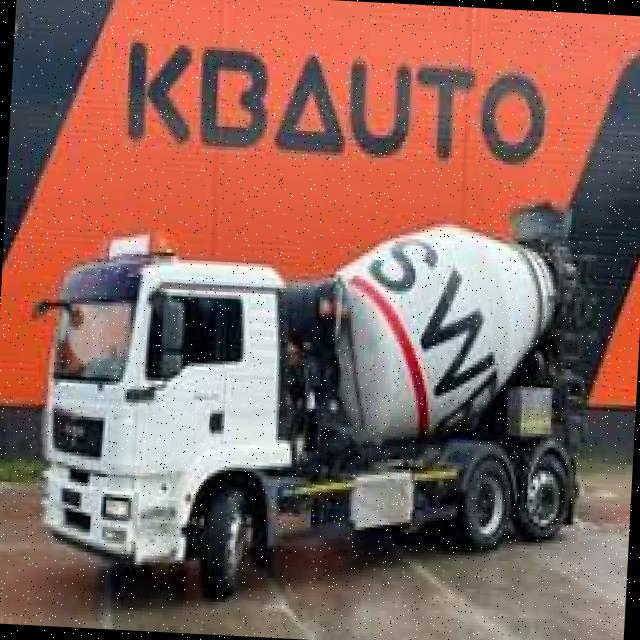Mixer Truck: (11, 198, 590, 616)
